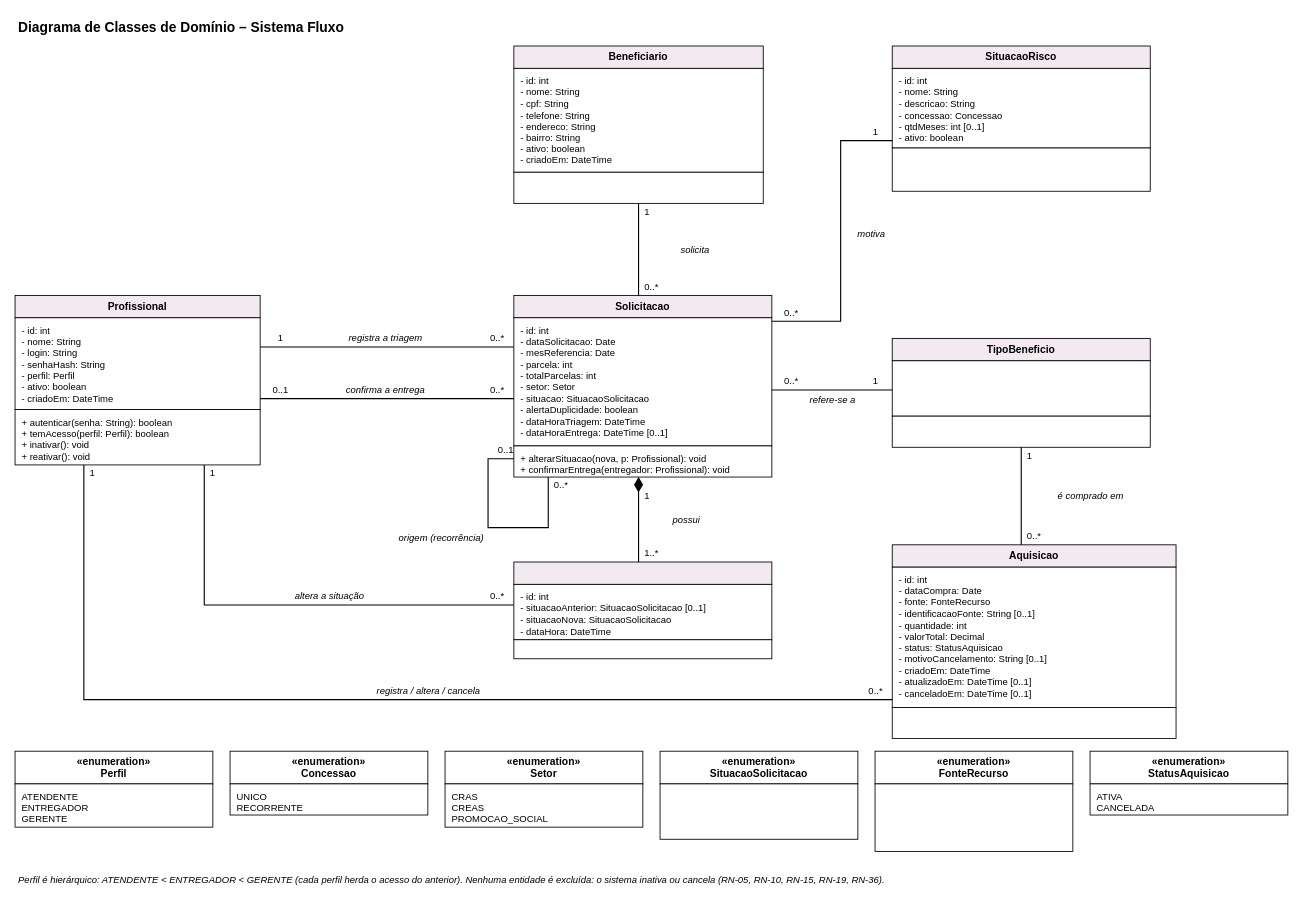
The diagram is 1303 pixels wide and 903 high, and some of its shapes have lost their labels. The centre of each missing label's shape, as x and y in pixels:
+ cpfValido(): boolean + inativar(): void: the point at 638,187
+ custoUnitario(): Decimal + cancelar(motivo: String, p: Profissional): void: the point at 1033,723
+ ehRecorrente(): boolean + inativar(): void + reativar(): void: the point at 1020,169
+ inativar(): void + reativar(): void: the point at 1020,431
- id: int - nome: String - descricao: String - ativo: boolean: the point at 1020,388
HistoricoSituacao: the point at 642,572
MUNICIPAL ESTADUAL FEDERAL EMENDA_PARLAMENTAR OUTRA: the point at 973,817
PENDENTE EM_TRIAGEM APROVADO ENTREGUE: the point at 758,811
